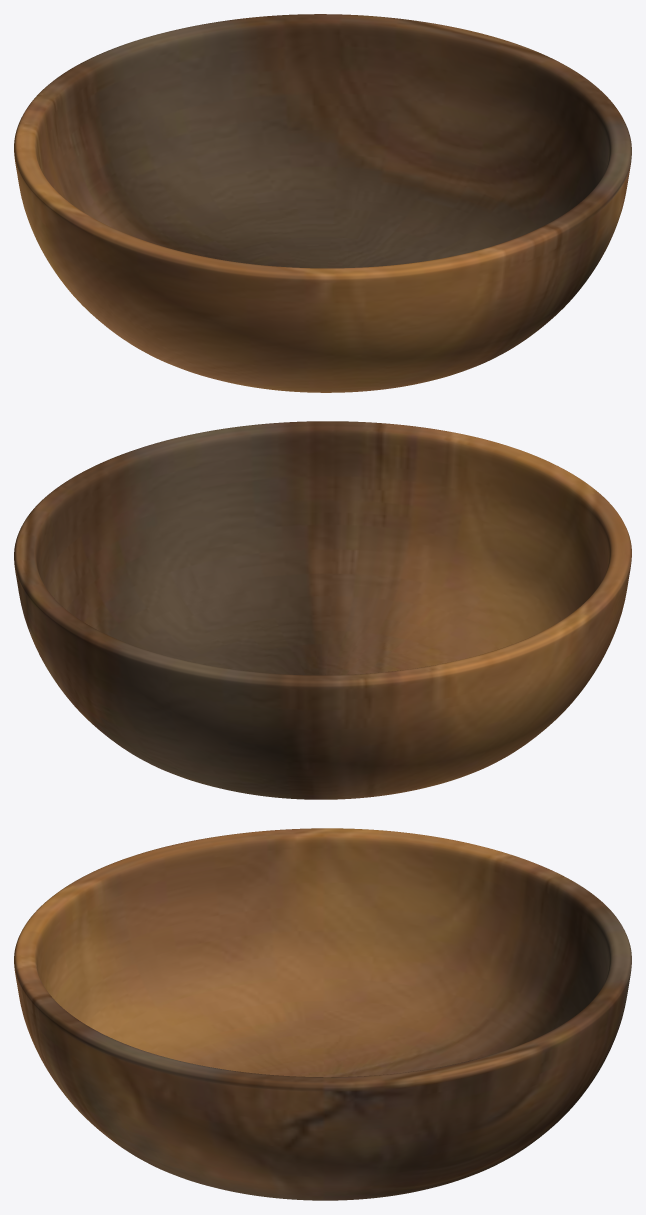
The model's file is objects__bowl_1.glb.
3 views of the same model, one above another, from view 1: azimuth 30°, elevation 25°; view 2: azimuth 150°, elevation 25°; view 3: azimuth 270°, elevation 25° (orthographic).
Parts seen in each view (by area): view 1: bowl_1__body; view 2: bowl_1__body; view 3: bowl_1__body.
Part boxes in pixels (bbox=[...]): bowl_1__body: bbox=[14, 14, 631, 392]; bowl_1__body: bbox=[14, 421, 631, 799]; bowl_1__body: bbox=[14, 828, 631, 1200].
Bounding box in the file's own units: 0.2781 × 0.0891 × 0.2821.
Materials: 1 (1 with a texture image).
